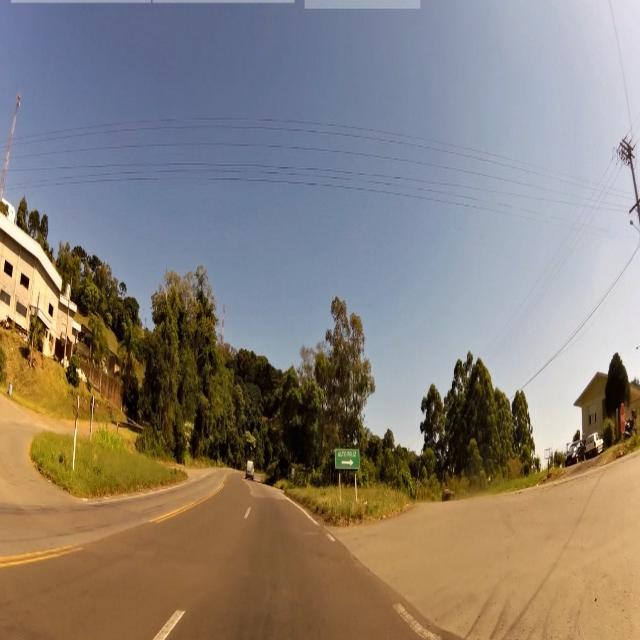I-4: (336, 449, 360, 468)
